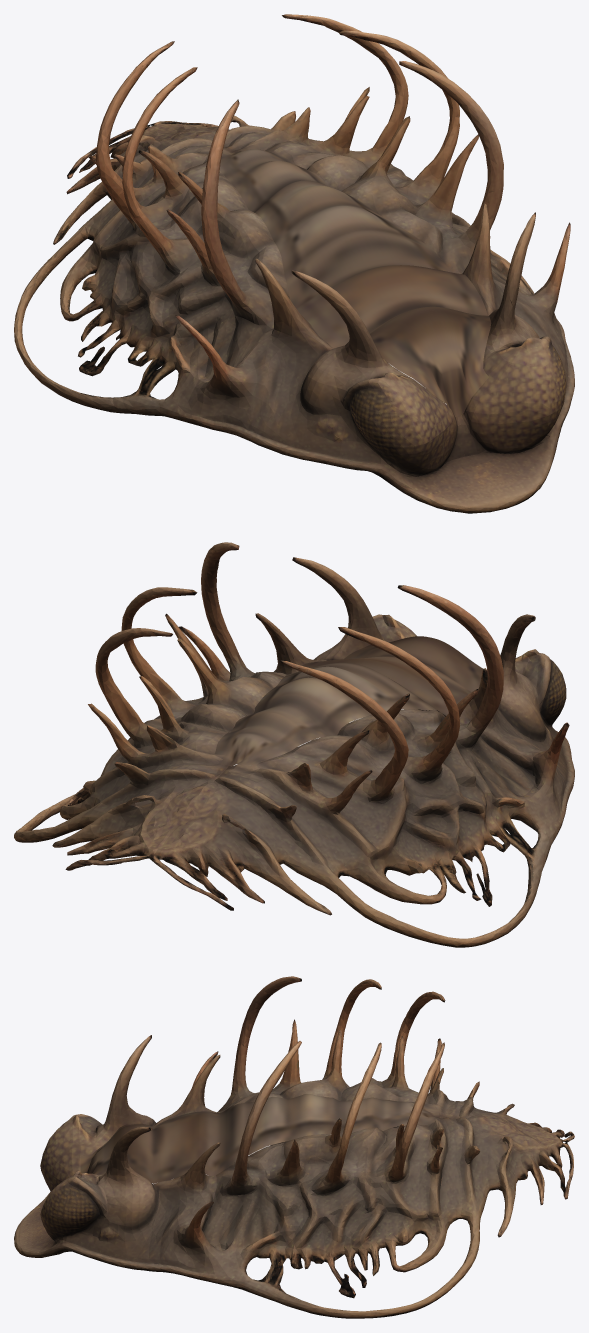
3 views of the same model, one above another, from view 1: azimuth 30°, elevation 25°; view 2: azimuth 150°, elevation 25°; view 3: azimuth 270°, elevation 25° (orthographic). The views are drawn at different scales.
Visible parts, largest first — view 1: world, comura-axis-top; view 2: world, comura-axis-top; view 3: world, comura-axis-top.
Part boxes in pixels (x1,y1,x2,y2): world: [14, 14, 574, 513]; comura-axis-top: [208, 141, 491, 416]; world: [14, 542, 574, 947]; comura-axis-top: [208, 636, 483, 768]; world: [14, 976, 574, 1318]; comura-axis-top: [80, 1094, 439, 1183].
Size of the model in its own units: 0.057 by 0.0345 by 0.075.
Materials: 3 (3 with a texture image).
